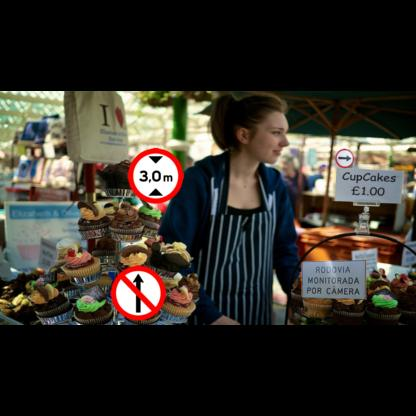I-E: (301, 259, 366, 300)
R-15: (128, 148, 184, 203)
R-24a: (335, 149, 354, 168)
R-3: (110, 265, 166, 320)
